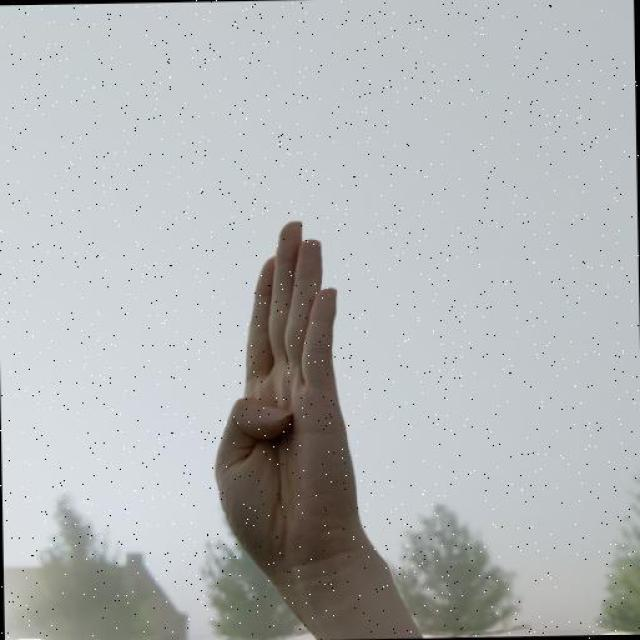B: (206, 218, 387, 571)
